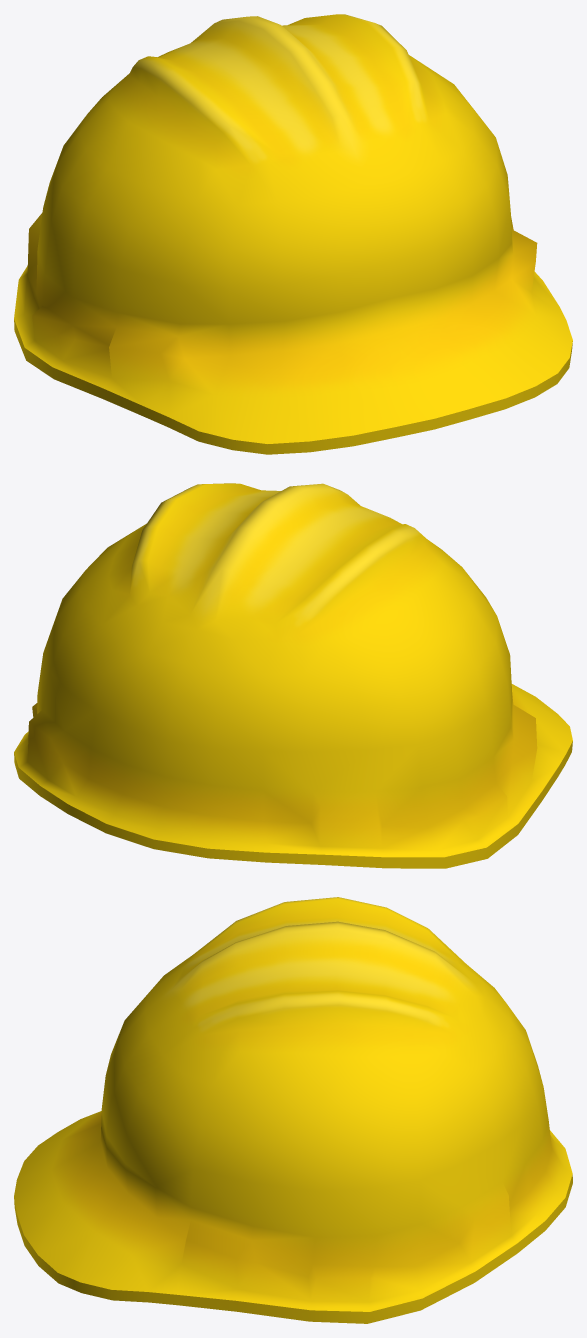
File: woker.fbx
3 views of the same model, one above another, from view 1: azimuth 30°, elevation 25°; view 2: azimuth 150°, elevation 25°; view 3: azimuth 270°, elevation 25° (orthographic).
Visible parts, largest first — view 1: woker_hat_mesh; view 2: woker_hat_mesh; view 3: woker_hat_mesh.
Boxes of the visible parts, x1,y1,x2,y2 form: woker_hat_mesh: (14, 14, 572, 454); woker_hat_mesh: (14, 483, 572, 868); woker_hat_mesh: (14, 897, 572, 1323).
Size of the model in its own units: 2.93 by 1.74 by 3.06.
